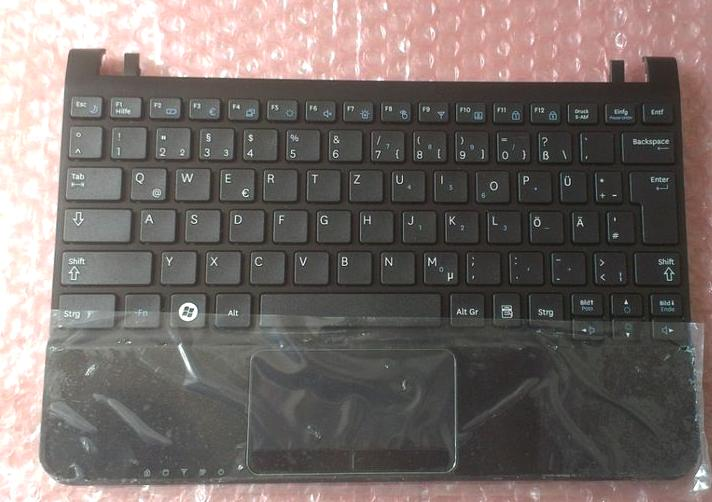0: (493, 128, 529, 163)
1: (107, 124, 145, 158)
2: (151, 124, 190, 158)
3: (195, 124, 233, 159)
4: (239, 125, 276, 160)
5: (282, 126, 319, 160)
6: (325, 127, 361, 161)
7: (367, 127, 404, 162)
8: (408, 127, 445, 162)
9: (450, 127, 487, 162)
a: (136, 206, 174, 241)
accent: (576, 129, 612, 162)
ae: (568, 207, 598, 242)
alt-left: (211, 289, 250, 328)
altgr-right: (446, 289, 487, 331)
b: (333, 248, 371, 284)
c: (246, 248, 284, 284)
caret: (66, 123, 100, 157)
comma: (462, 248, 499, 284)
d: (225, 206, 263, 242)
del: (619, 127, 675, 162)
e: (216, 165, 254, 200)
enter: (627, 166, 677, 244)
f: (269, 207, 306, 241)
g: (312, 207, 349, 242)
h: (355, 207, 392, 242)
hash: (603, 207, 633, 242)
i: (430, 167, 466, 201)
j: (398, 207, 434, 242)
k: (441, 207, 477, 242)
keyboard: (48, 81, 694, 348)
l: (484, 207, 519, 242)
less: (591, 248, 625, 285)
m: (419, 248, 457, 284)
minus: (547, 248, 584, 283)
n: (377, 248, 413, 284)
o: (472, 167, 509, 202)
oe: (525, 207, 562, 243)
p: (514, 167, 550, 201)
plus: (596, 167, 625, 202)
point: (505, 248, 542, 283)
q: (126, 164, 165, 200)
r: (259, 166, 296, 200)
s: (180, 206, 219, 241)
shift-left: (57, 247, 151, 284)
shift-lock: (60, 205, 130, 241)
shift-right: (633, 248, 683, 285)
space: (257, 290, 442, 330)
ss: (533, 128, 569, 162)
strg-left: (56, 290, 115, 328)
strg-right: (526, 290, 567, 328)
t: (303, 166, 339, 201)
tab: (62, 163, 120, 199)
u: (387, 166, 424, 201)
ue: (556, 167, 588, 202)
v: (290, 248, 327, 283)
w: (171, 164, 209, 199)
x: (202, 248, 239, 284)
y: (157, 248, 195, 284)
z: (345, 166, 381, 201)
